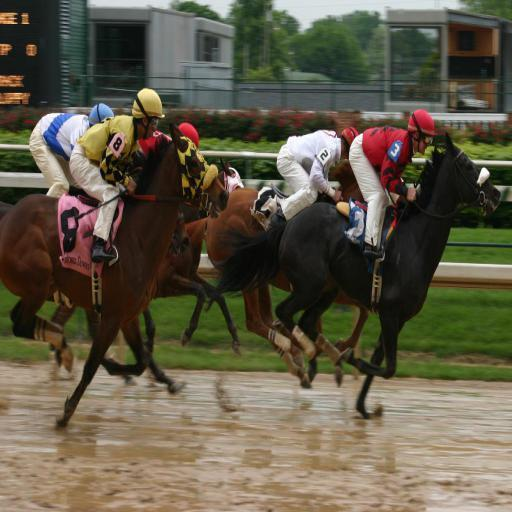horse: (0, 122, 501, 424), (0, 121, 230, 428), (162, 159, 382, 389)
